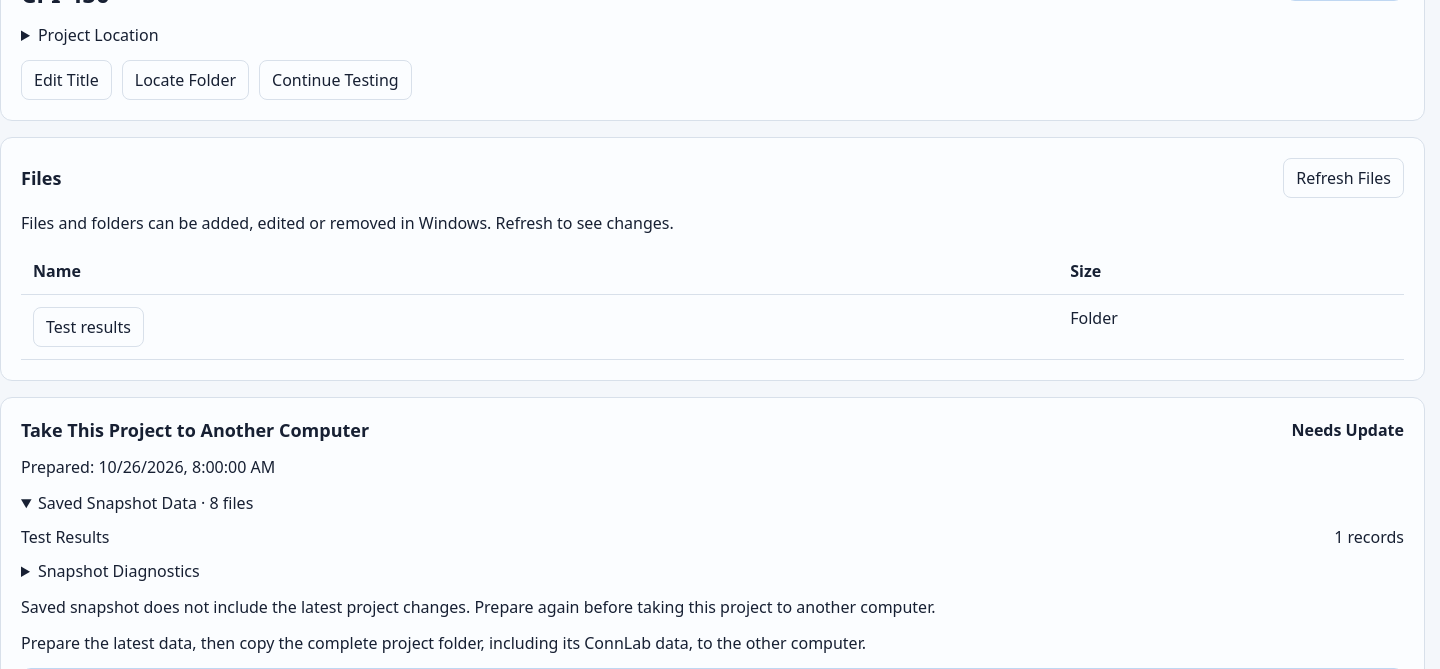
Test case: Library project management › keeps saved coverage separate from new files until the latest snapshot is prepared
The width and height of the screenshot is (1440, 669).
Expected: the heading "Saved Snapshot Data · 8 files" is shown, [38,492,253,514]
Click the button "Refresh Files": (1344, 178) [1283,158,1404,198]
(page scrolled)
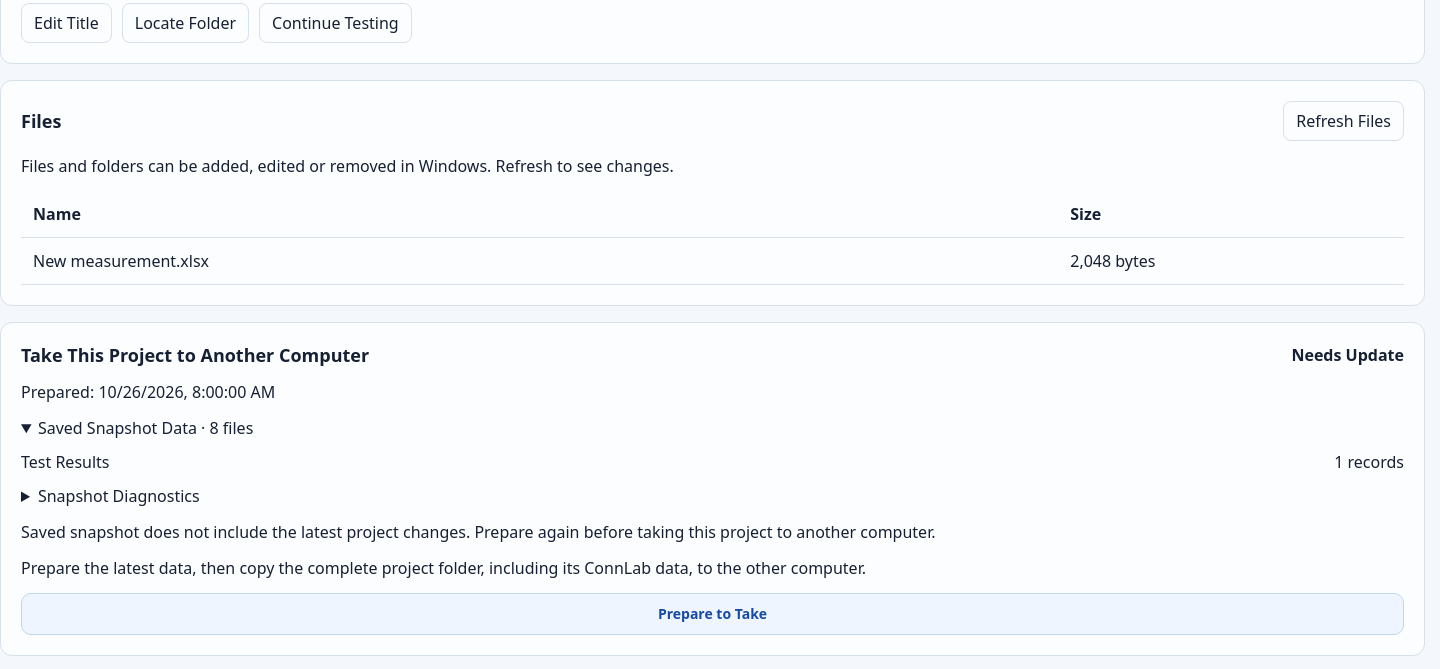
Expected: the text "1 records" is shown, [1334,451,1404,473]
Result: the text "New measurement.xlsx" is shown at [21,238,1058,284]
Click the button "Prepare to Take": (712, 614) [21,593,1404,635]
(page scrolled)
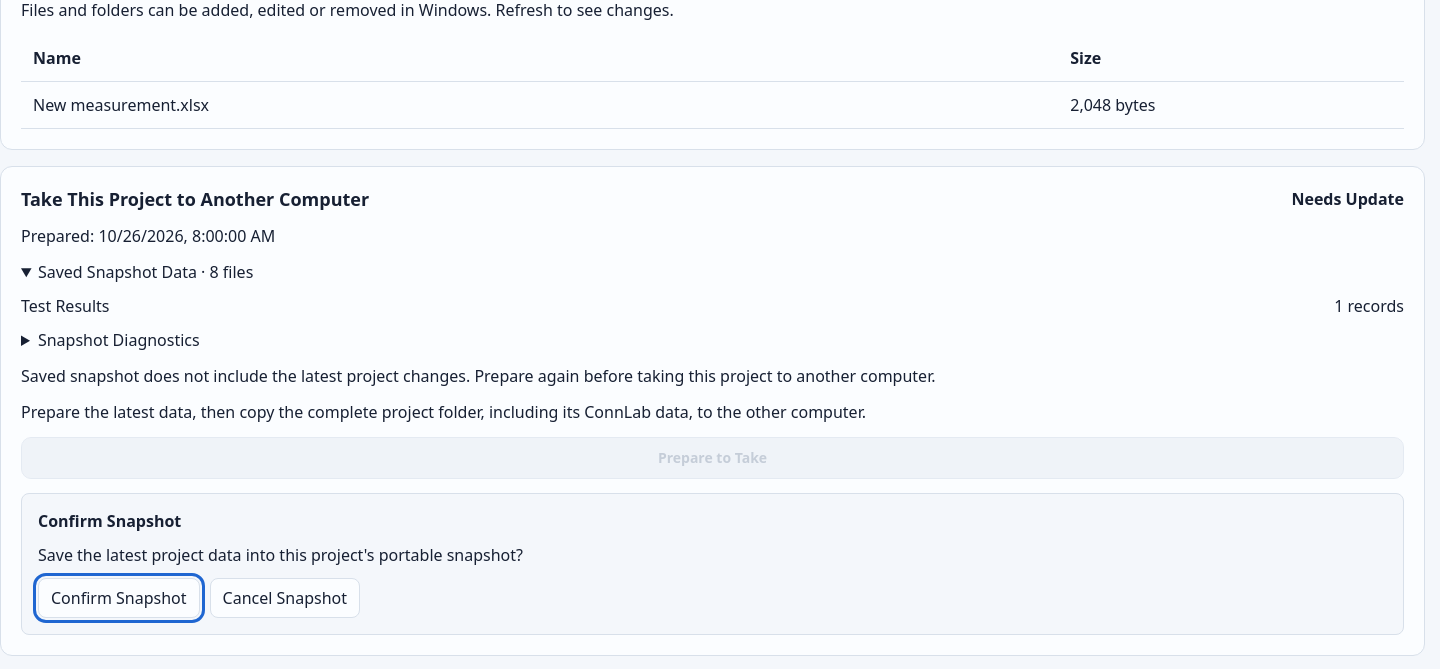
Click the button "Confirm Snapshot": (119, 598) [38,578,200,618]
(page scrolled)
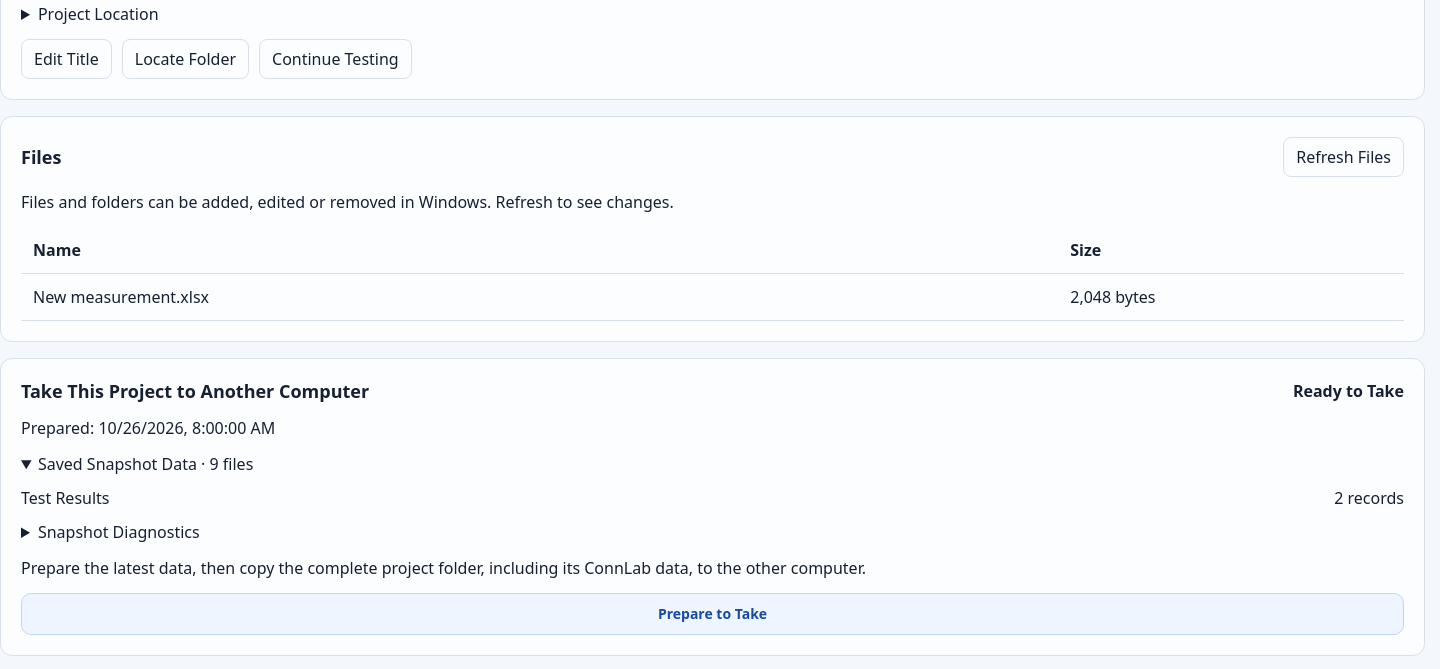
Result: the heading "Saved Snapshot Data · 9 files" is shown at [38,453,253,475]
Result: the text "2 records" is shown at [1334,487,1404,509]
Result: the text "Saved snapshot does not include the latest project changes. Prepare again before taking this project to another computer" is gone
